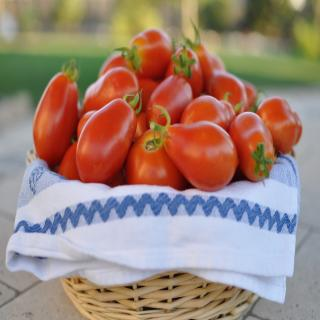tomato: (76, 88, 143, 184), (166, 119, 242, 186), (32, 56, 78, 160), (224, 110, 276, 182), (128, 126, 186, 190), (178, 18, 226, 84), (81, 67, 140, 111), (118, 30, 173, 76), (146, 73, 194, 125), (256, 96, 296, 153), (180, 94, 232, 135), (169, 44, 204, 95), (211, 70, 248, 110), (98, 51, 135, 78), (59, 140, 79, 176)
